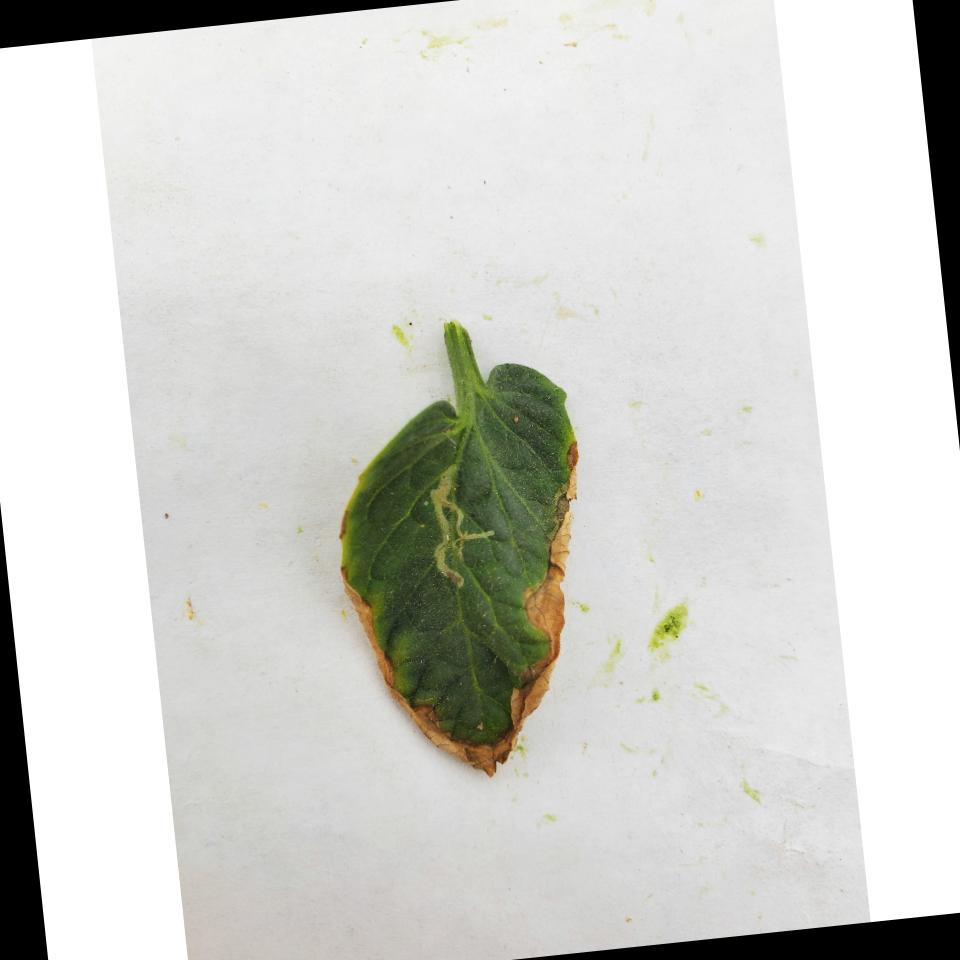tomato_bacterial_blight: (360, 339, 603, 784)
